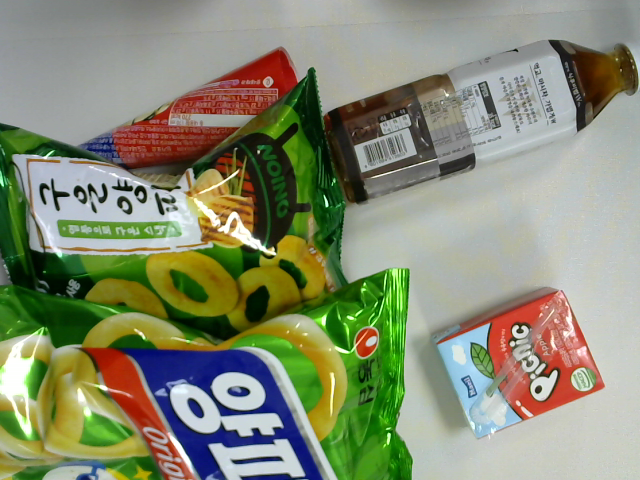Grilled_Onions: (1, 68, 350, 343)
Oninon_Ring: (1, 265, 418, 480)
Picnic_Apple: (431, 285, 610, 440)
Post-meal_recipe_W_tea_500ml: (321, 40, 640, 207)
World_Cone_Banila: (72, 45, 304, 168)
